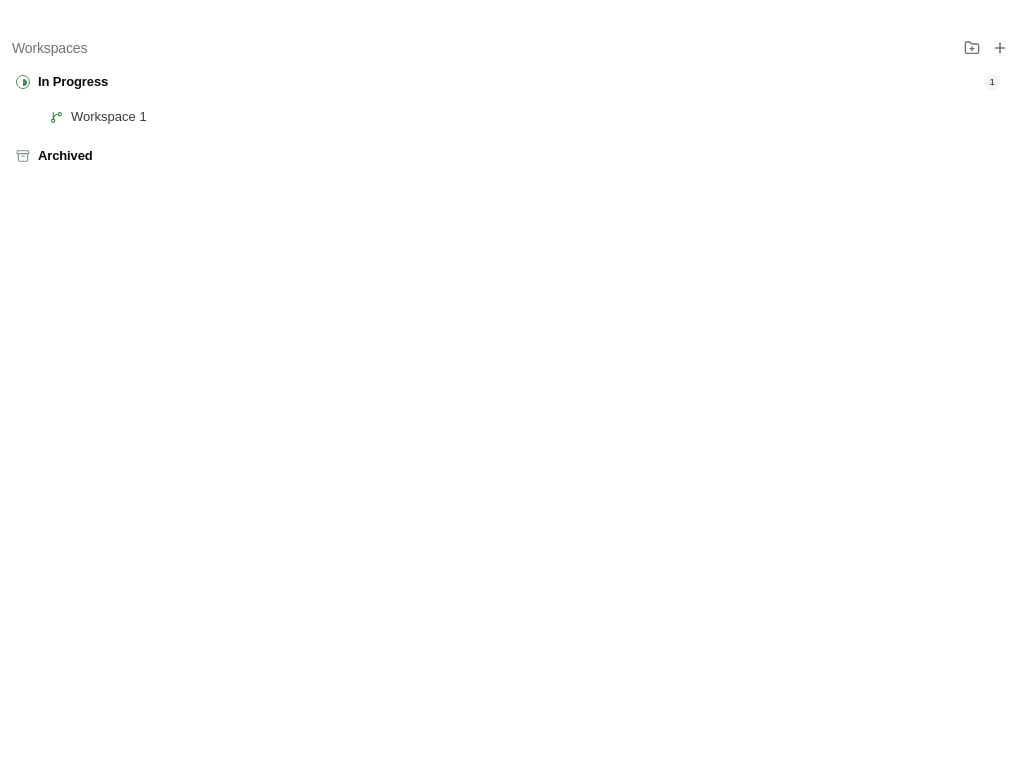
Scenario: WorkspacesSidebar › opens the repository picker and creates a workspace from the selected repository
What coordinates should you click on to do the following:
click the button named "New workspace"
I would click on:
 (1000, 48)
Its box is [988,36,1012,60].
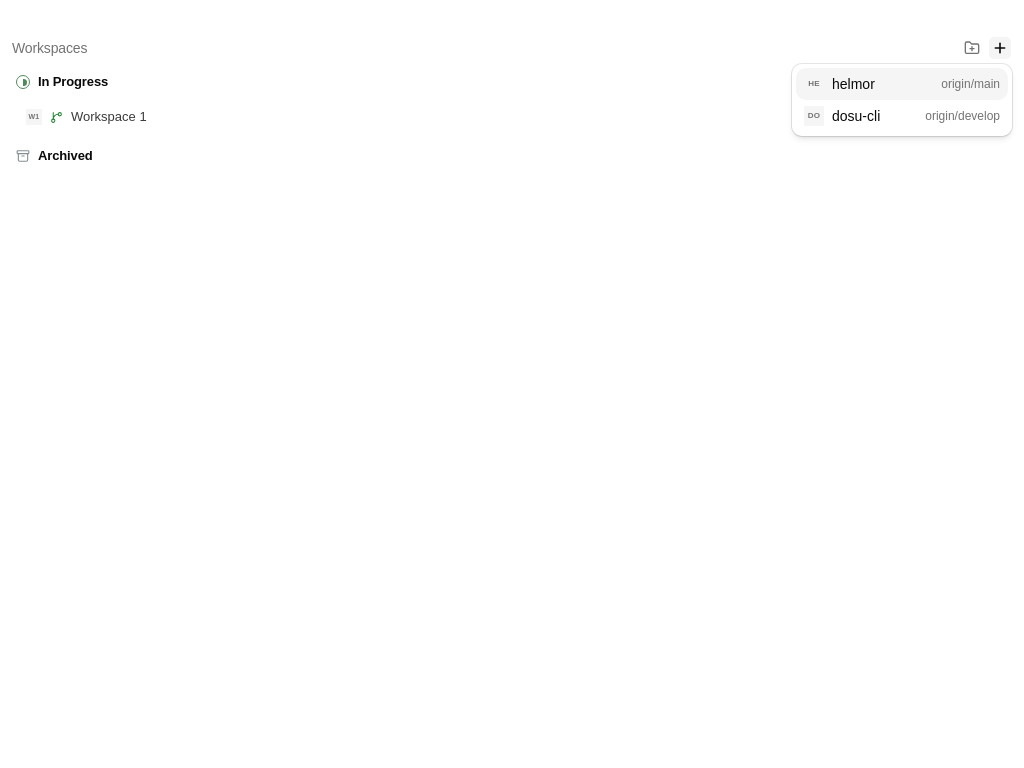
Result: the option "HE helmor origin/main" is shown
What coordinates should you click on to do the following:
click the option "HE helmor origin/main"
I would click on:
 (902, 84)
Its box is [796,68,1008,100].
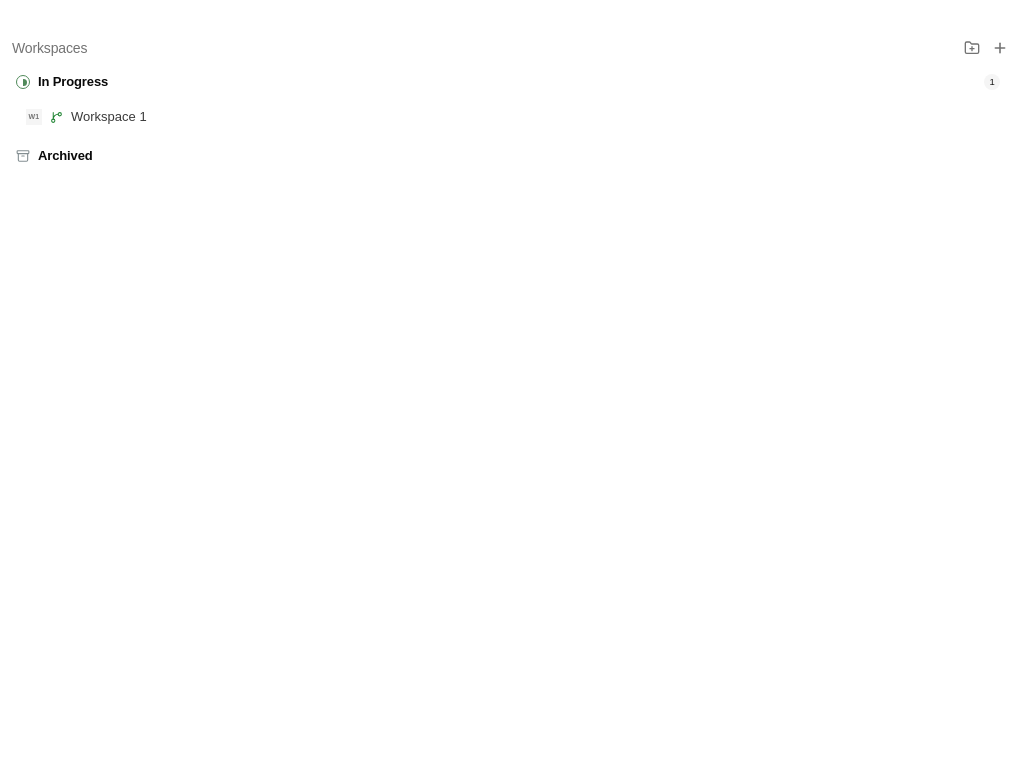
Result: the option "helmor" is gone
